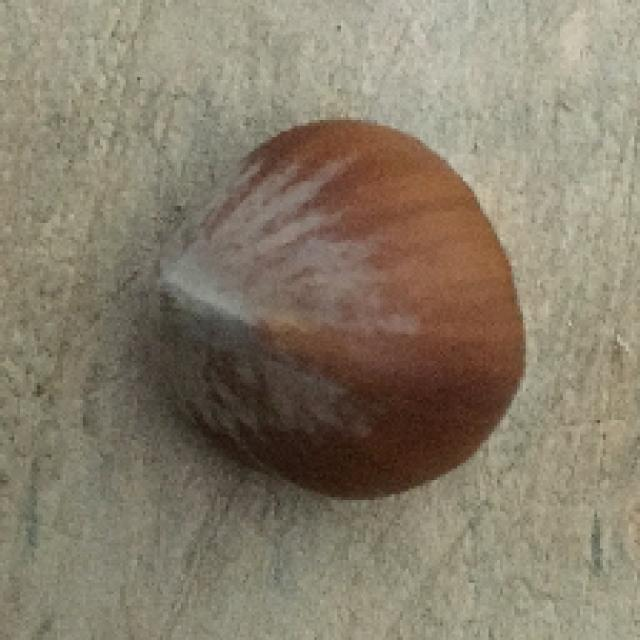qualityHazelnut: (134, 119, 532, 505)
